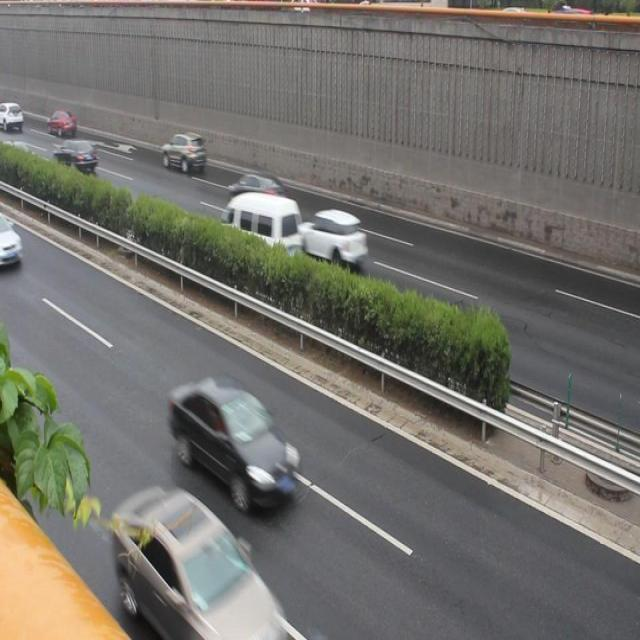car: (110, 484, 291, 640), (165, 366, 302, 512), (297, 206, 368, 267), (230, 169, 286, 211), (160, 129, 207, 170), (1, 210, 29, 271), (56, 139, 96, 172), (47, 104, 79, 140)
truck: (221, 190, 302, 266)
